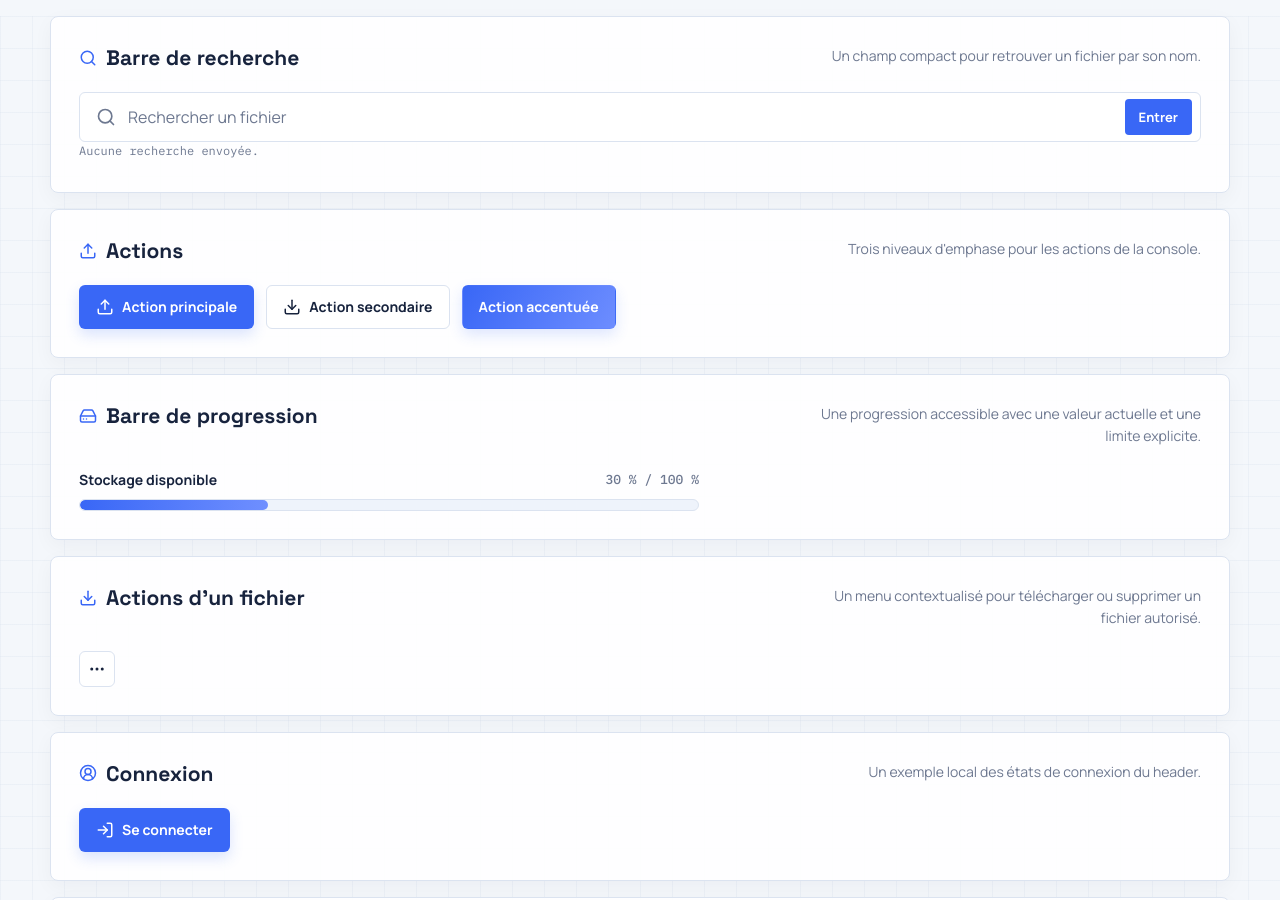
SharedComponentsShowcasePage › presents file actions in the shared component library
Check: the heading "Actions d'un fichier" is shown, box [106,585,305,611]
Click the button named "Actions pour rapport-annuel.pdf" at [97, 669], box [79,651,115,687]
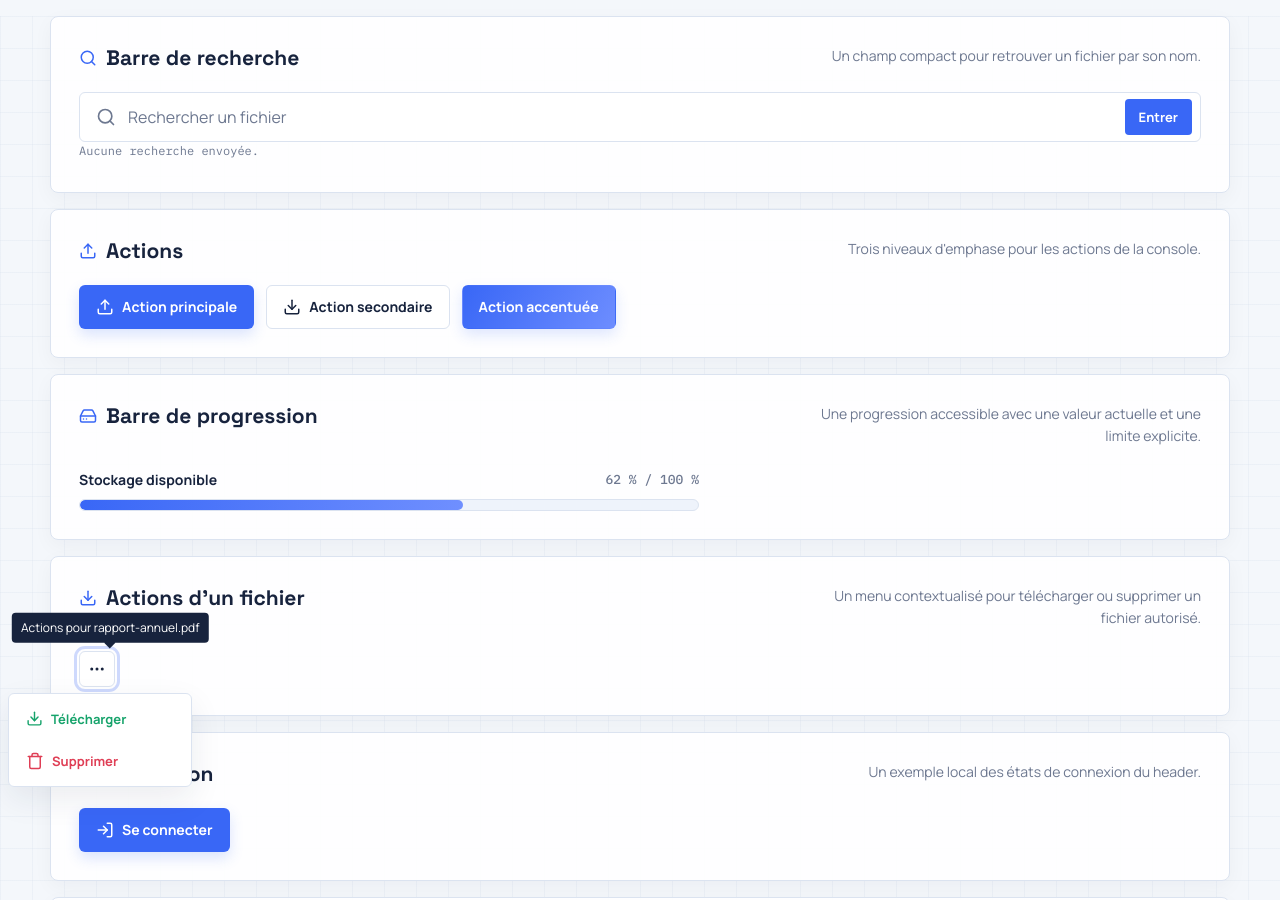
Check: the menu item "Télécharger" is shown, box [26,710,126,728]
Check: the menu item "Supprimer" is shown, box [15,742,185,780]
